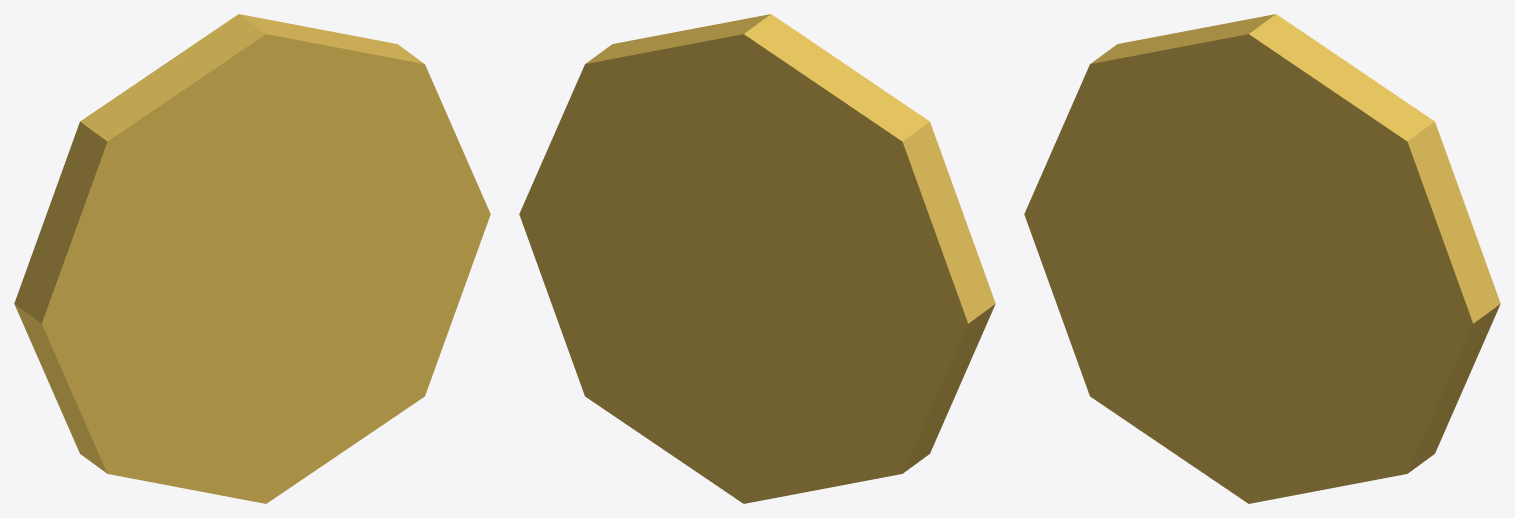
The model's file is coin.glb.
3 renders of one model, left to right at view 1: azimuth 30°, elevation 25°; view 2: azimuth 150°, elevation 25°; view 3: azimuth 330°, elevation 25°, orthographic.
Parts seen in each view (by area): view 1: Coin; view 2: Coin; view 3: Coin.
Part boxes in pixels (x1=…): Coin: x1=14, y1=14, x2=490, y2=503; Coin: x1=519, y1=14, x2=995, y2=503; Coin: x1=1024, y1=14, x2=1500, y2=503.
Bounding box in the file's own units: 0.3778 × 0.3778 × 0.04.
